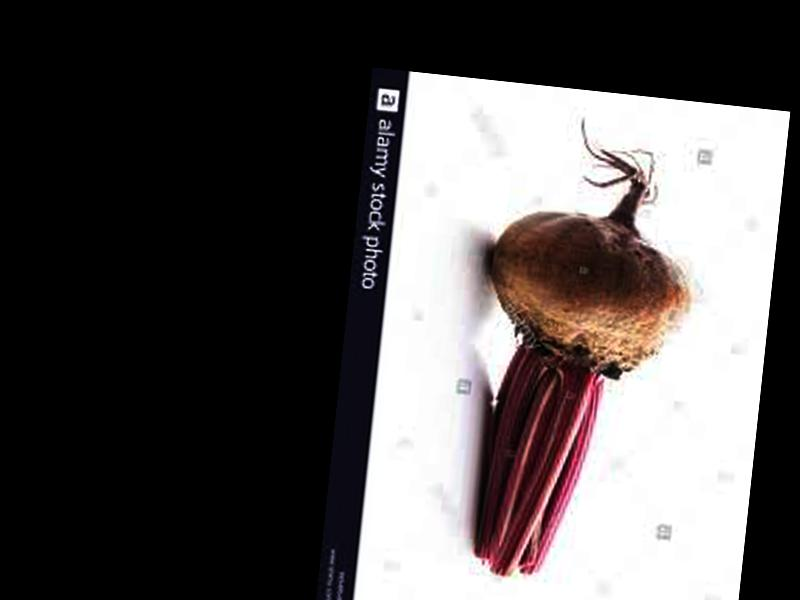Beet: (457, 110, 706, 592)
